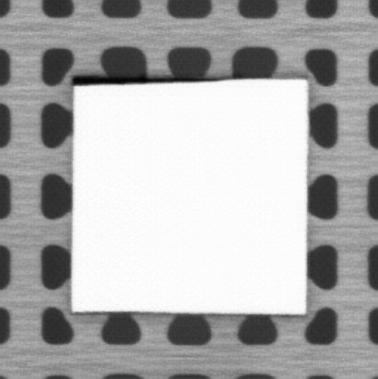DIE_BROKEN: (71, 73, 213, 87)
